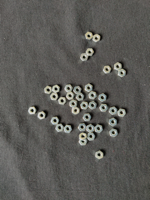nut: (95, 125, 104, 134), (109, 118, 118, 127), (96, 151, 104, 160), (110, 129, 118, 138), (87, 133, 96, 141), (79, 133, 88, 141), (51, 117, 60, 125), (78, 124, 87, 132), (83, 114, 92, 122), (118, 109, 127, 117), (28, 107, 37, 115), (58, 97, 67, 105), (89, 92, 98, 100), (76, 93, 85, 101), (50, 93, 59, 101), (85, 84, 93, 93), (74, 86, 82, 95), (44, 86, 53, 94), (81, 53, 89, 62), (93, 34, 101, 43), (64, 125, 72, 133), (56, 124, 64, 132), (87, 125, 95, 133), (38, 112, 46, 120), (72, 107, 80, 115), (110, 107, 118, 115), (89, 102, 97, 110), (81, 102, 89, 110), (70, 100, 78, 108), (99, 94, 107, 102), (67, 92, 75, 100), (65, 85, 73, 93), (52, 85, 60, 93), (115, 63, 123, 71), (104, 66, 112, 74), (85, 32, 93, 40), (100, 105, 109, 112), (119, 69, 126, 78), (86, 49, 95, 56), (79, 140, 88, 146)
